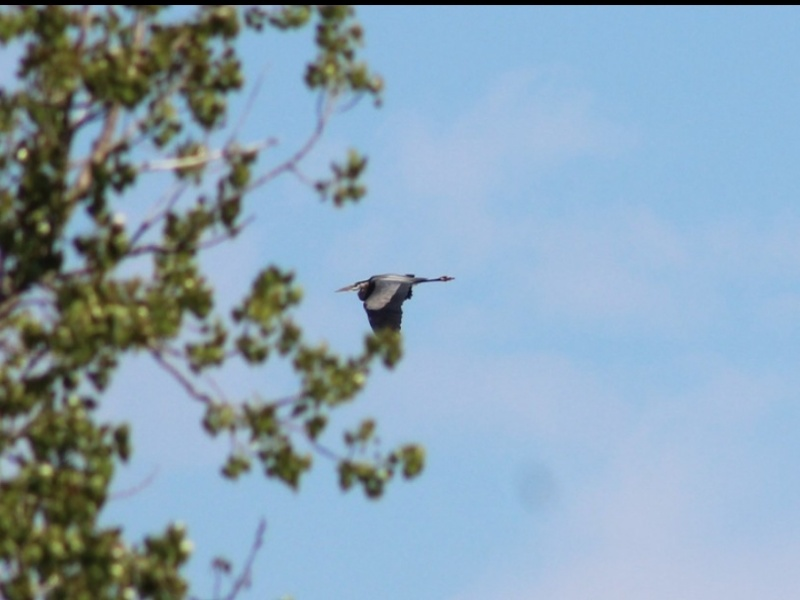heron: (331, 269, 455, 337)
